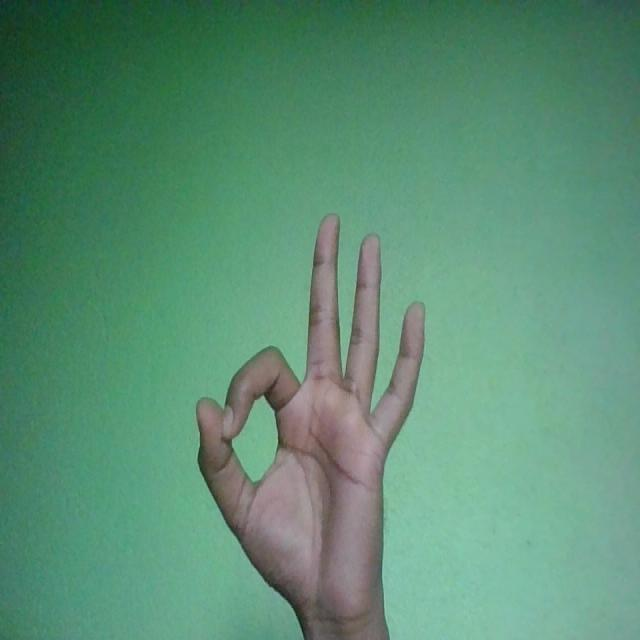Rock On: (195, 212, 426, 640)
